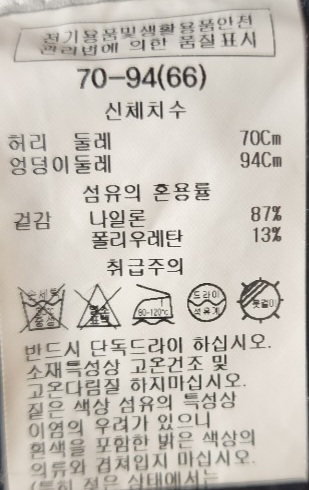KR_dry_clean_petroleum: (183, 279, 230, 326)
KR_hang_dry_in_shade: (236, 273, 286, 324)
KR_iron_low_temp_with_cloth: (127, 281, 178, 326)
KR_no_chlorine_bleach: (70, 281, 123, 331)
